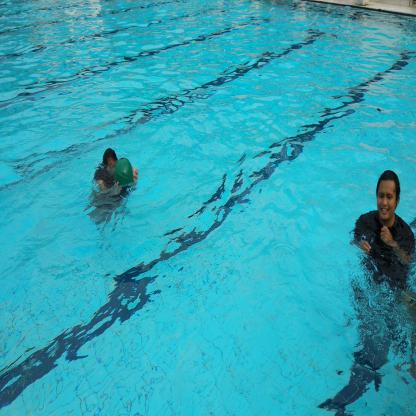green_buoy: (113, 155, 135, 192)
